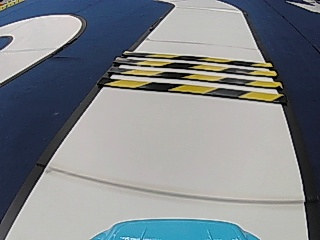bump: (99, 47, 291, 111)
